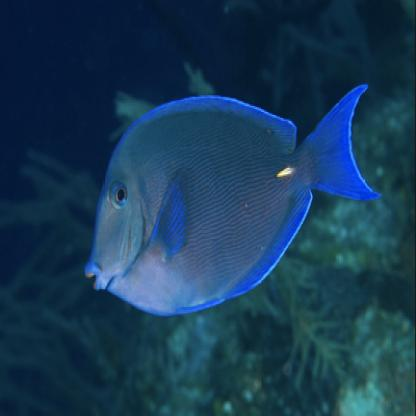Acanthuridae -Surgeonfishes-: (83, 80, 382, 319)
